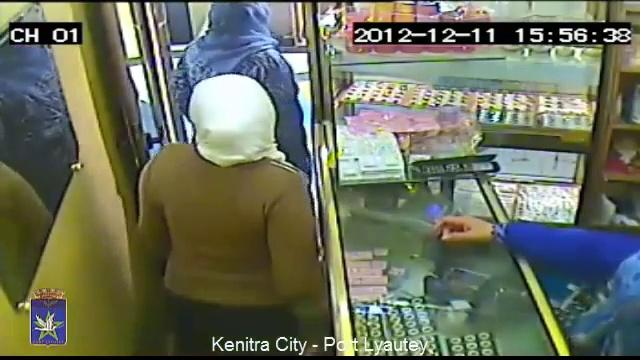Regular: (111, 84, 334, 358), (435, 148, 640, 360), (148, 0, 323, 115)
